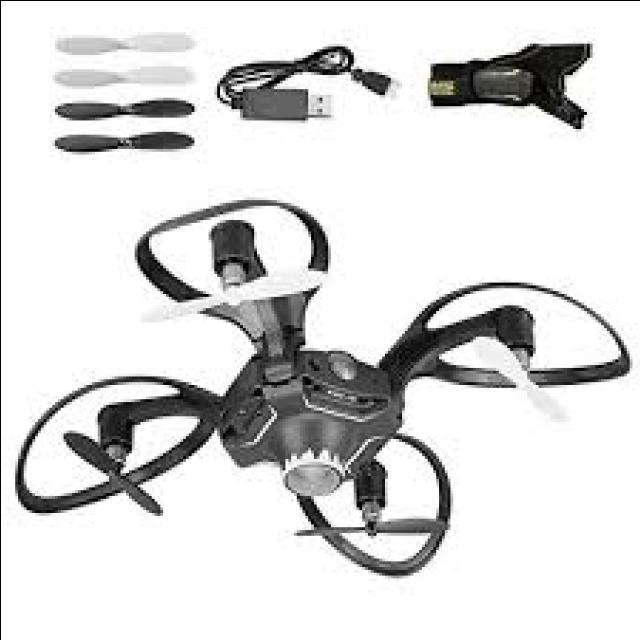drone: (0, 182, 635, 572)
